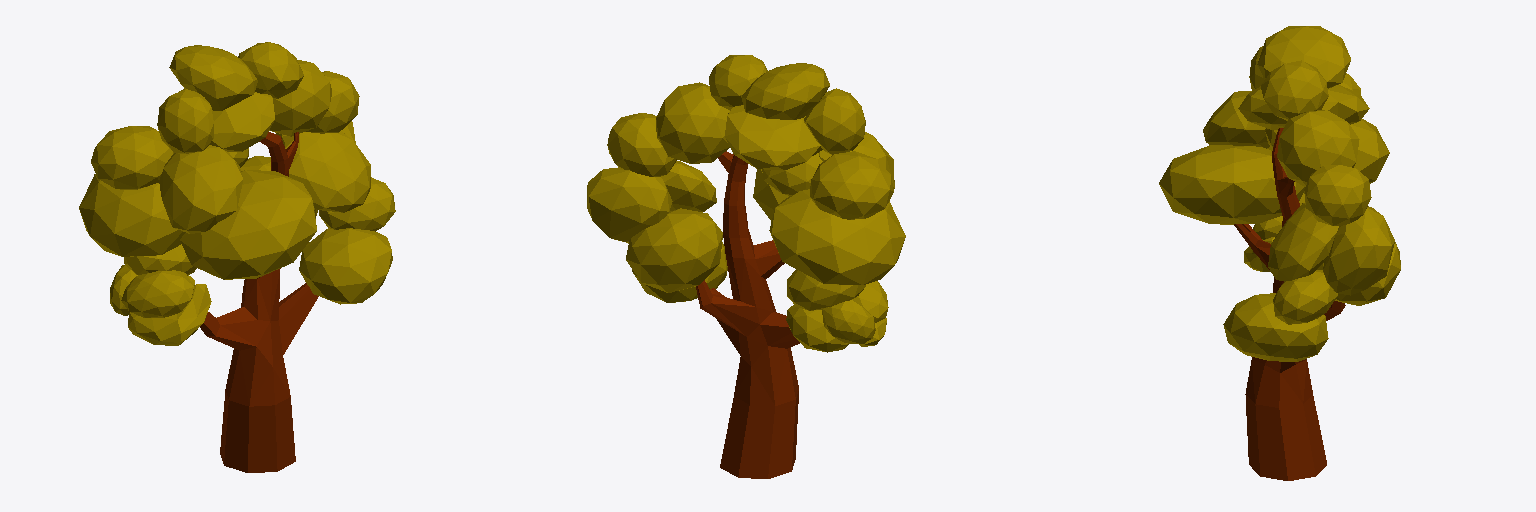
File: oakTree.obj
3 views of the same model, side by side, from view 1: azimuth 30°, elevation 25°; view 2: azimuth 150°, elevation 25°; view 3: azimuth 270°, elevation 25° (orthographic).
Parts seen in each view (by area): view 1: Oak_Cylinder.004; view 2: Oak_Cylinder.004; view 3: Oak_Cylinder.004.
Part boxes in pixels (x1,y1,x2,y2): Oak_Cylinder.004: (79, 42, 395, 472); Oak_Cylinder.004: (587, 55, 905, 478); Oak_Cylinder.004: (1159, 26, 1400, 480).
Size of the model in its own units: 3.96 by 5.31 by 2.84.